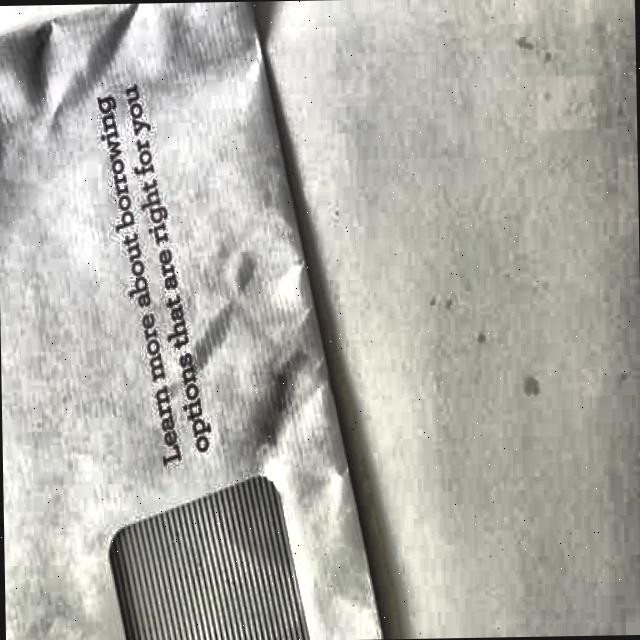paper: (0, 0, 397, 640)
